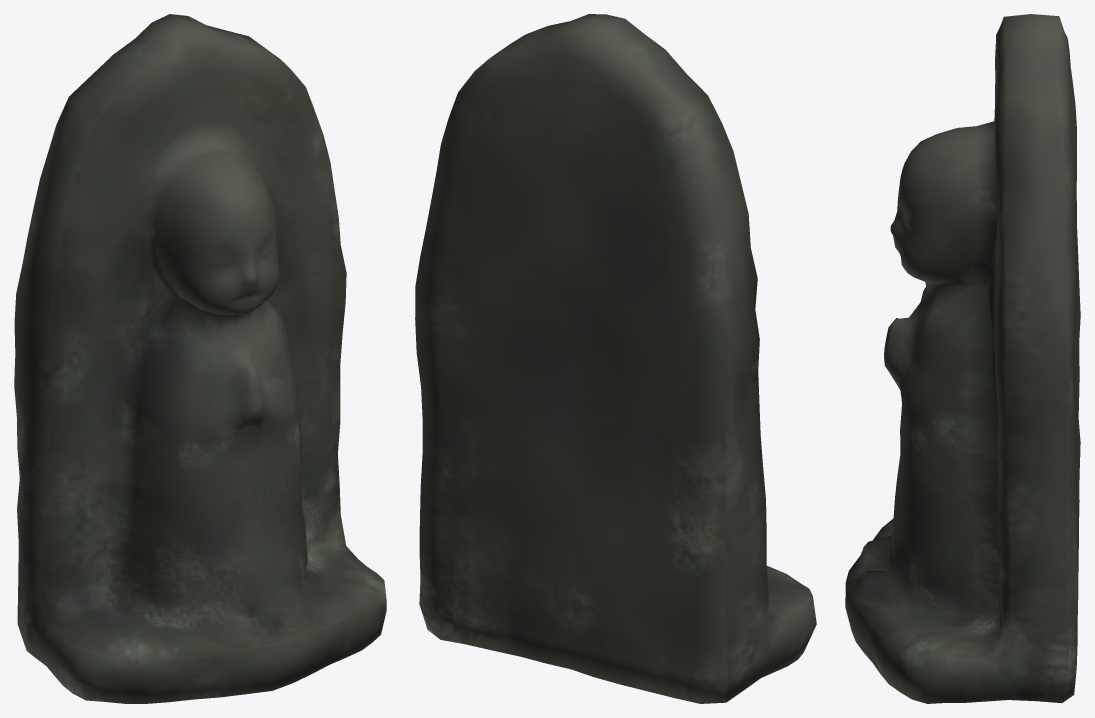
Rendered from jizo.glb.
3 renders of one model, left to right at view 1: azimuth 30°, elevation 25°; view 2: azimuth 150°, elevation 25°; view 3: azimuth 270°, elevation 25°, orthographic. The views are drawn at different scales.
Visible parts, largest first — view 1: Jizo_Ochigo3D; view 2: Jizo_Ochigo3D; view 3: Jizo_Ochigo3D.
Boxes of the visible parts, x1=… form: Jizo_Ochigo3D: x1=14, y1=14, x2=386, y2=703; Jizo_Ochigo3D: x1=415, y1=14, x2=816, y2=703; Jizo_Ochigo3D: x1=845, y1=14, x2=1080, y2=703.
Bounding box in the file's own units: 0.635 × 1.18 × 0.4087.
Materials: 1 (1 with a texture image).
